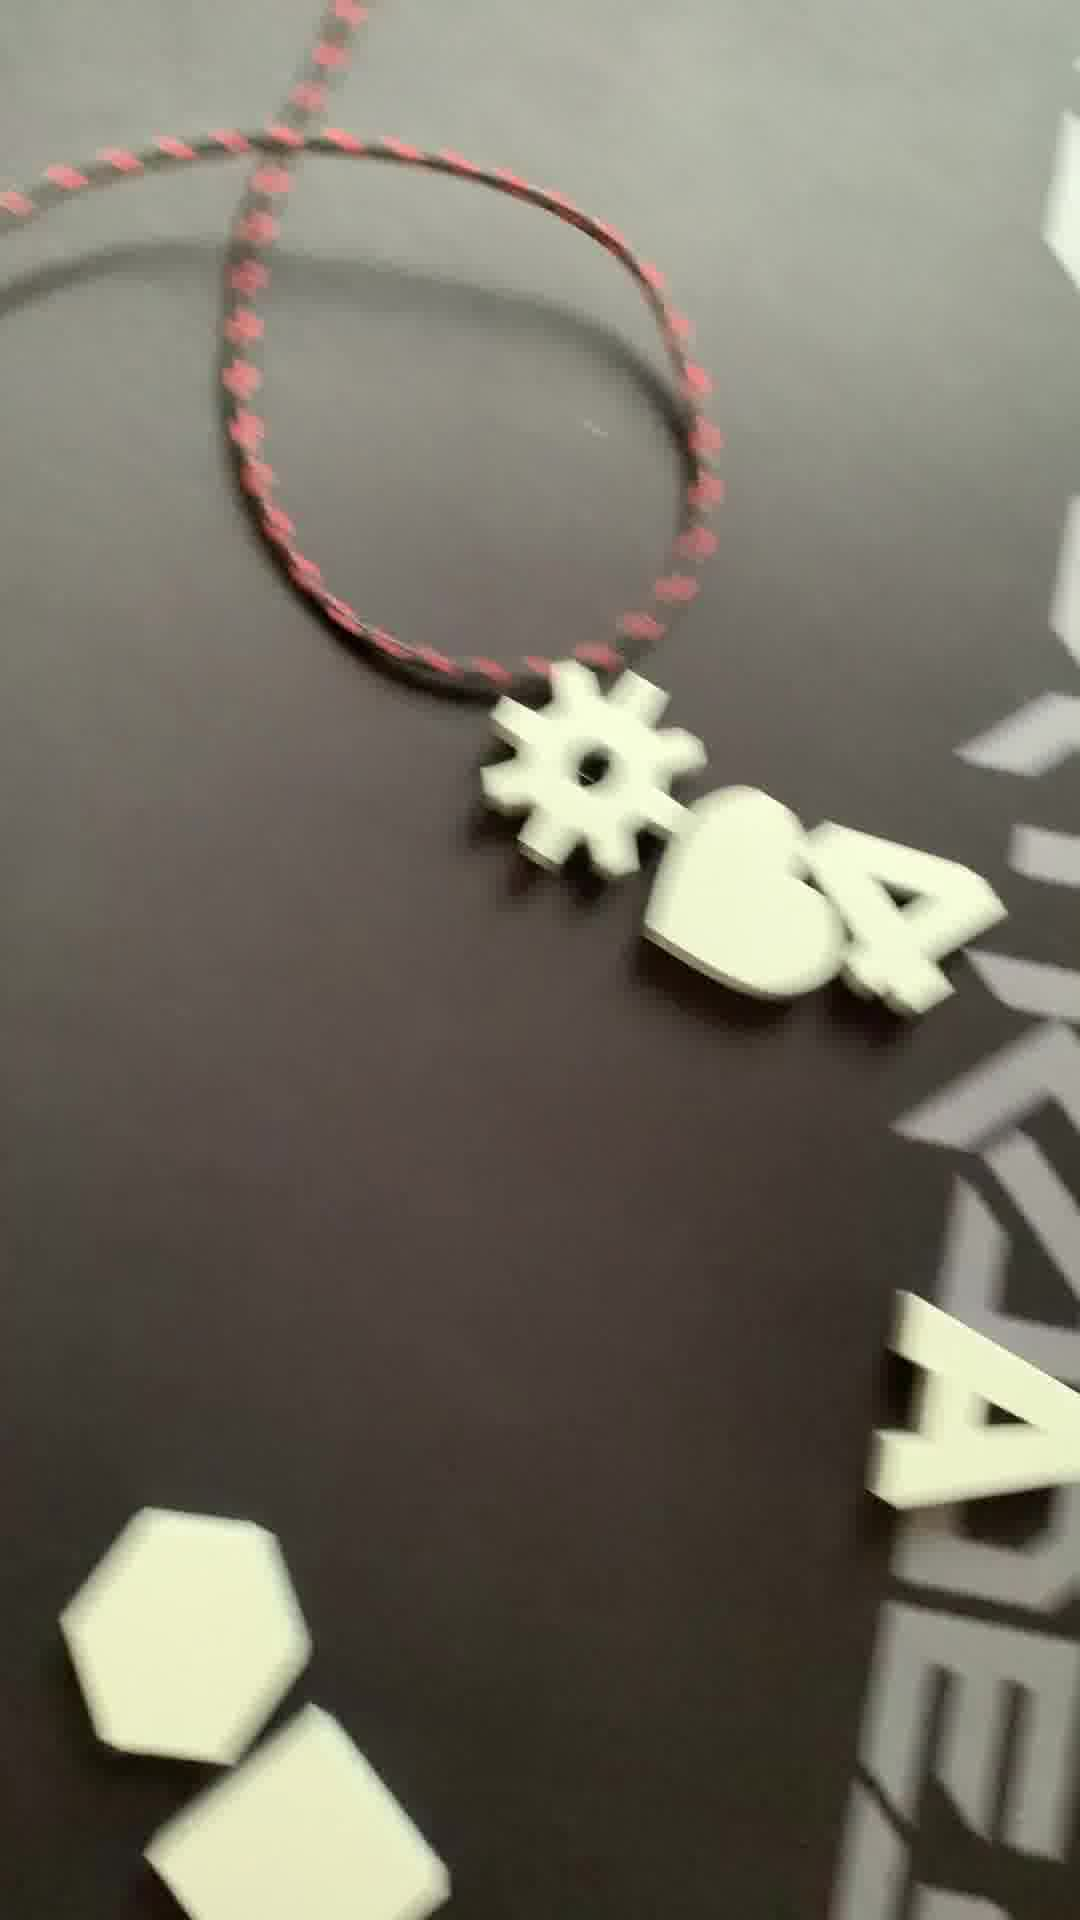Gray A-letter: (864, 1302, 1080, 1526)
Gray four: (793, 818, 1009, 1022)
Gray gear: (492, 669, 723, 861)
Gray heart: (649, 783, 860, 1007)
Gray hexagon: (66, 1499, 315, 1771)
Gray square: (138, 1718, 469, 1920)
